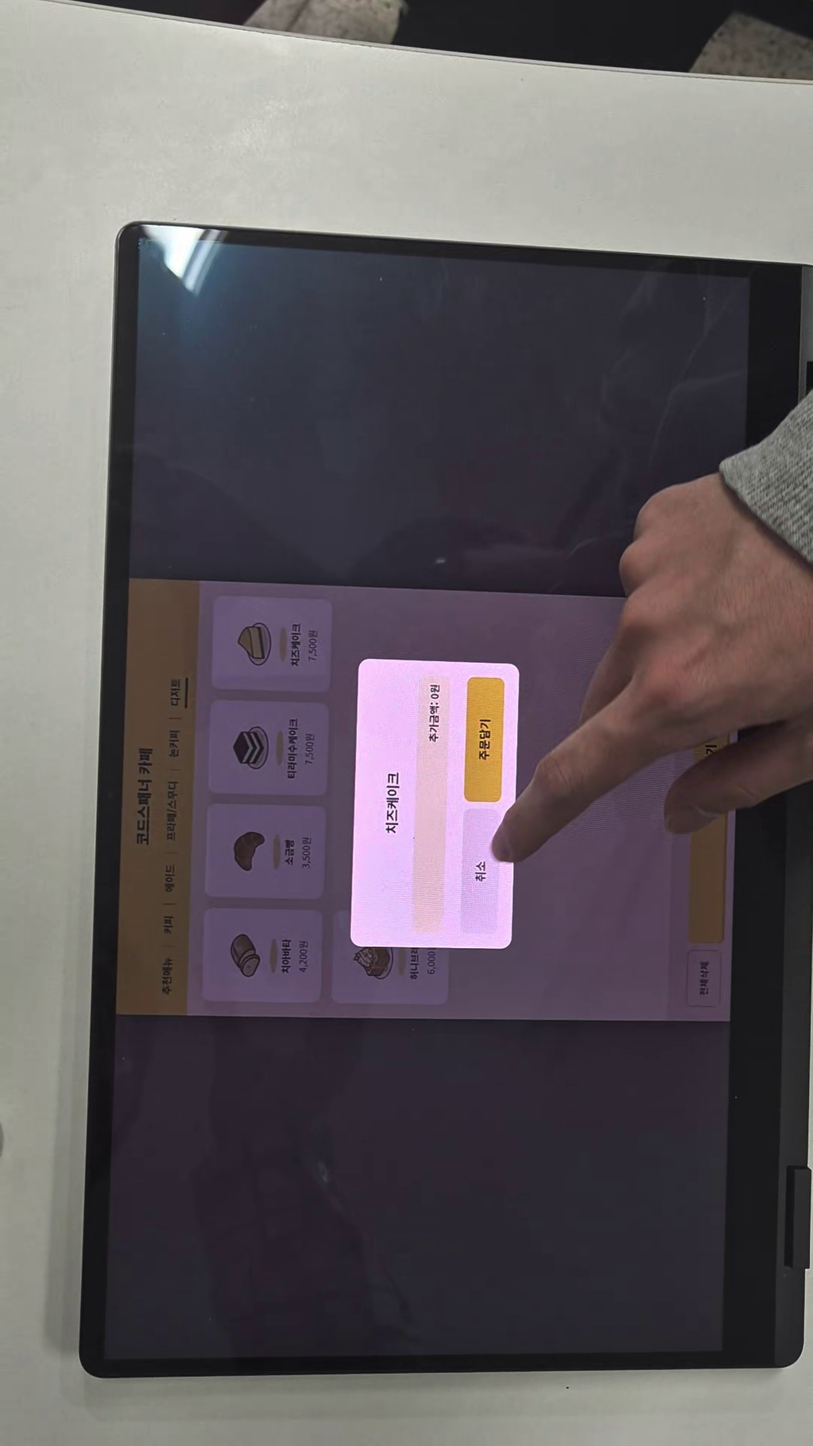action_button: (464, 810, 503, 936), (466, 675, 504, 804)
popup_modal: (357, 661, 521, 947)
